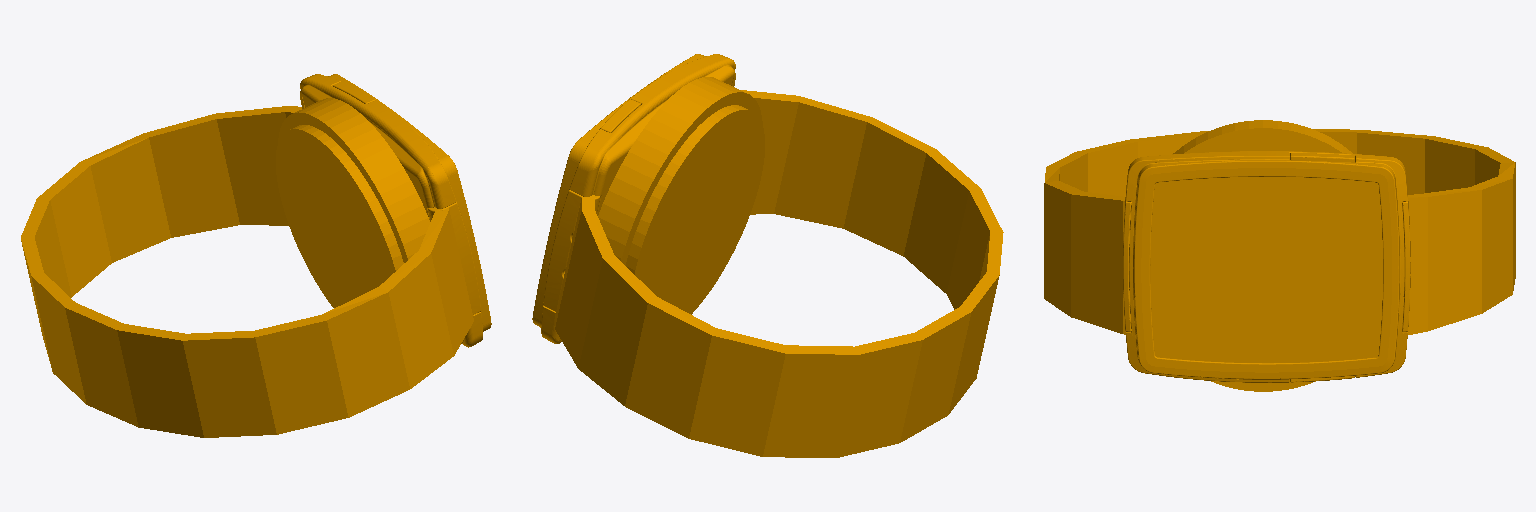
URDF robot description (object):
<?xml version="1.0"?>
<robot name="object">
  <link name="object">
    <visual>
      <origin xyz="0.0 0.0 0.0"/>
      <geometry>
        <mesh filename="wristwatch.stl" scale="1.00 1.00 1.00"/>
      </geometry>
    </visual>
    <collision>
      <origin xyz="0.0 0.0 0.0"/>
      <geometry>
        <mesh filename="wristwatch.stl" scale="1.00 1.00 1.00"/>
      </geometry>
    </collision>
  </link>
</robot>
    
                    

--- Facts derived from the render (not from the file) ---
Views: 3 orthographic renders of the robot side by side, from view 1: azimuth 30°, elevation 25°; view 2: azimuth 150°, elevation 25°; view 3: azimuth 270°, elevation 25°.
Model object with 1 links and 0 joints (none), rooted at object, posed all joints at 0.
Visible links, largest first — view 1: object; view 2: object; view 3: object.
Boxes of the visible links, box(x1,y1,x2,y2) form: object: box(21, 74, 491, 437); object: box(532, 54, 1003, 457); object: box(1044, 120, 1515, 391).
Bounding box of the posed robot: 0.0705 × 0.0775 × 0.0447 m (x, y, z).
Meshes: 1 distinct files referenced, 1 mesh visuals loaded (1 binary STL).
